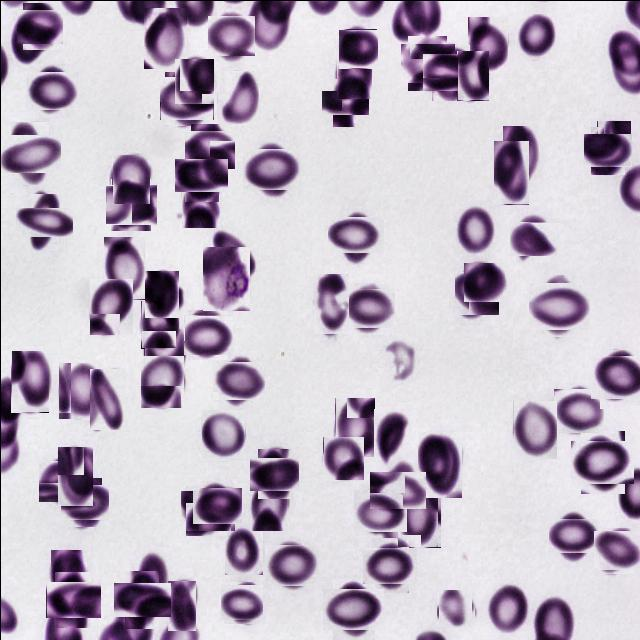red blood cell: (575, 434, 629, 488), (532, 278, 586, 332), (417, 431, 461, 497), (396, 485, 440, 547), (102, 236, 144, 299), (143, 7, 186, 68), (328, 582, 378, 634), (512, 400, 556, 459), (4, 127, 54, 178), (88, 278, 132, 335), (57, 362, 101, 419), (246, 144, 296, 194), (334, 397, 374, 457), (10, 350, 48, 412), (162, 73, 210, 122), (593, 352, 640, 402), (139, 355, 183, 408), (554, 386, 602, 434), (267, 541, 315, 589), (355, 486, 403, 534), (492, 140, 528, 204), (216, 70, 258, 124), (374, 466, 421, 514), (426, 48, 474, 95), (467, 16, 507, 72), (502, 125, 538, 187), (403, 39, 450, 86), (200, 409, 244, 459), (312, 273, 348, 334), (488, 580, 528, 634), (56, 446, 92, 506), (89, 368, 124, 429), (345, 285, 391, 331), (107, 181, 153, 227), (332, 211, 378, 257), (49, 576, 95, 622), (118, 576, 164, 622), (455, 201, 494, 255), (367, 542, 412, 588), (29, 66, 74, 112), (186, 126, 232, 171), (41, 458, 87, 503), (373, 408, 408, 466), (182, 488, 228, 532), (185, 312, 230, 356), (208, 13, 252, 58), (251, 475, 287, 530), (216, 357, 260, 402), (514, 13, 556, 60), (143, 328, 183, 377), (50, 549, 86, 603), (454, 271, 498, 315), (594, 528, 638, 572), (179, 152, 223, 196), (224, 524, 262, 574), (111, 154, 149, 204), (22, 200, 66, 243), (181, 178, 219, 227), (173, 58, 213, 104), (140, 300, 178, 348), (336, 46, 371, 98), (195, 484, 238, 526), (322, 436, 363, 480), (136, 550, 168, 606), (11, 11, 44, 65), (552, 514, 594, 556), (62, 480, 104, 522), (253, 452, 294, 494), (586, 130, 628, 170), (512, 218, 553, 258), (19, 5, 59, 46), (456, 50, 488, 100), (463, 262, 504, 301), (144, 270, 178, 317), (596, 120, 630, 166), (338, 28, 377, 68), (222, 582, 260, 622), (167, 580, 195, 630), (326, 84, 362, 120), (437, 590, 473, 625)
trophozoite: (202, 246, 249, 310)
